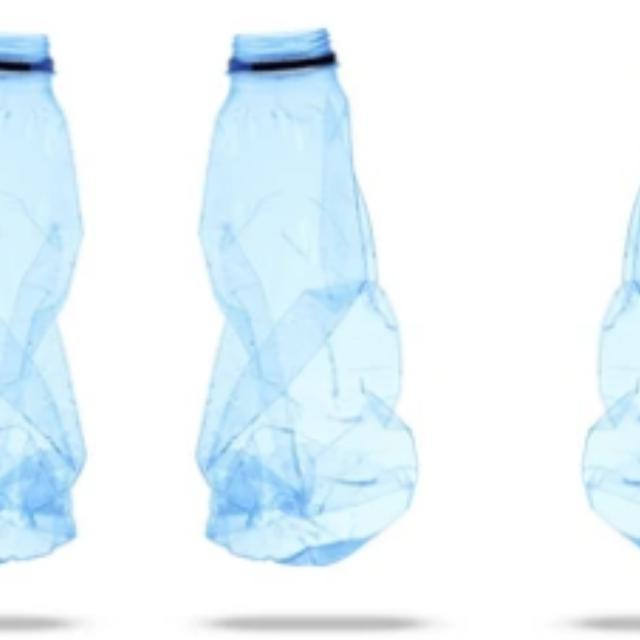Plastic: (180, 16, 448, 566), (0, 16, 99, 566), (551, 16, 640, 566)
